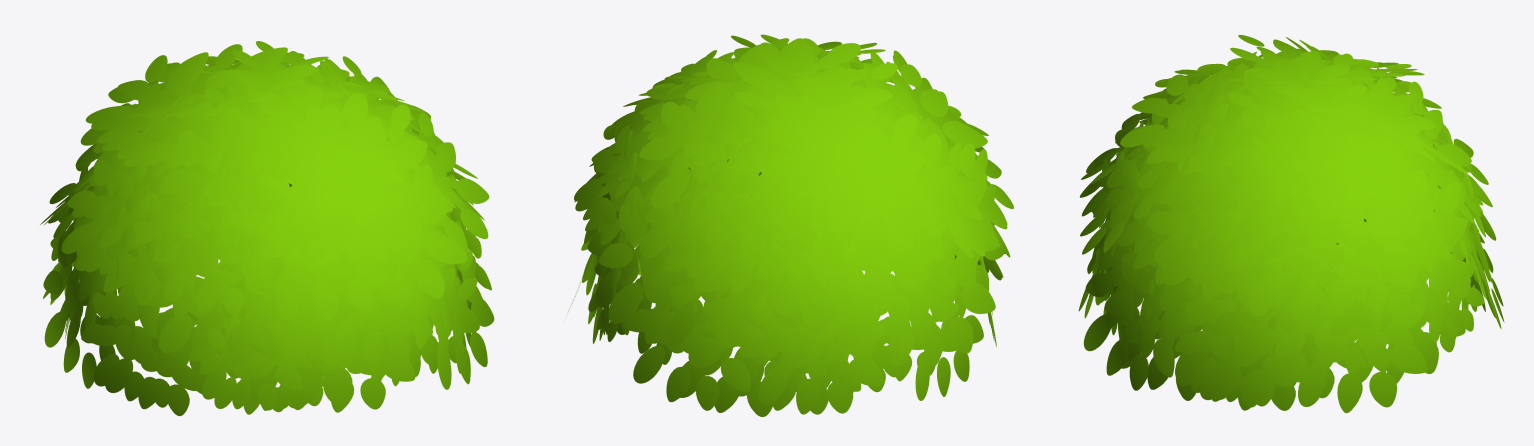
Rendered from Bush.glb.
The picture shows the model from 3 angles, left to right: view 1: azimuth 30°, elevation 25°; view 2: azimuth 150°, elevation 25°; view 3: azimuth 270°, elevation 25°; orthographic projection. The views are drawn at different scales.
Visible parts, largest first — view 1: Bush; view 2: Bush; view 3: Bush.
Boxes of the visible parts, x1,y1,x2,y2 form: Bush: (40, 41, 494, 416); Bush: (567, 34, 1013, 416); Bush: (1078, 35, 1504, 413).
Size of the model in its own units: 1.09 by 0.6916 by 1.05.
1 material, 1 textured.
